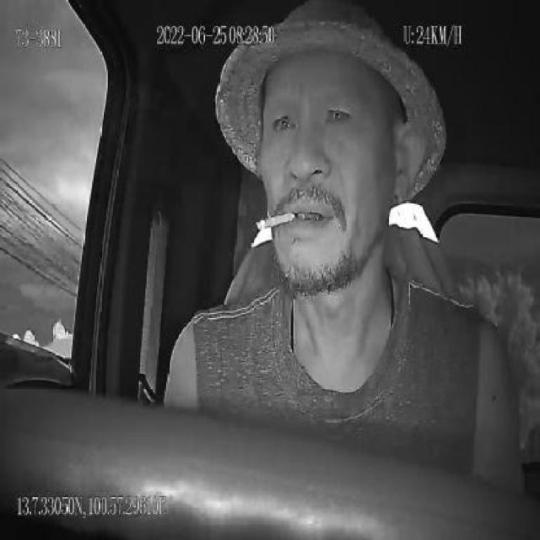smoking: (255, 209, 297, 232)
